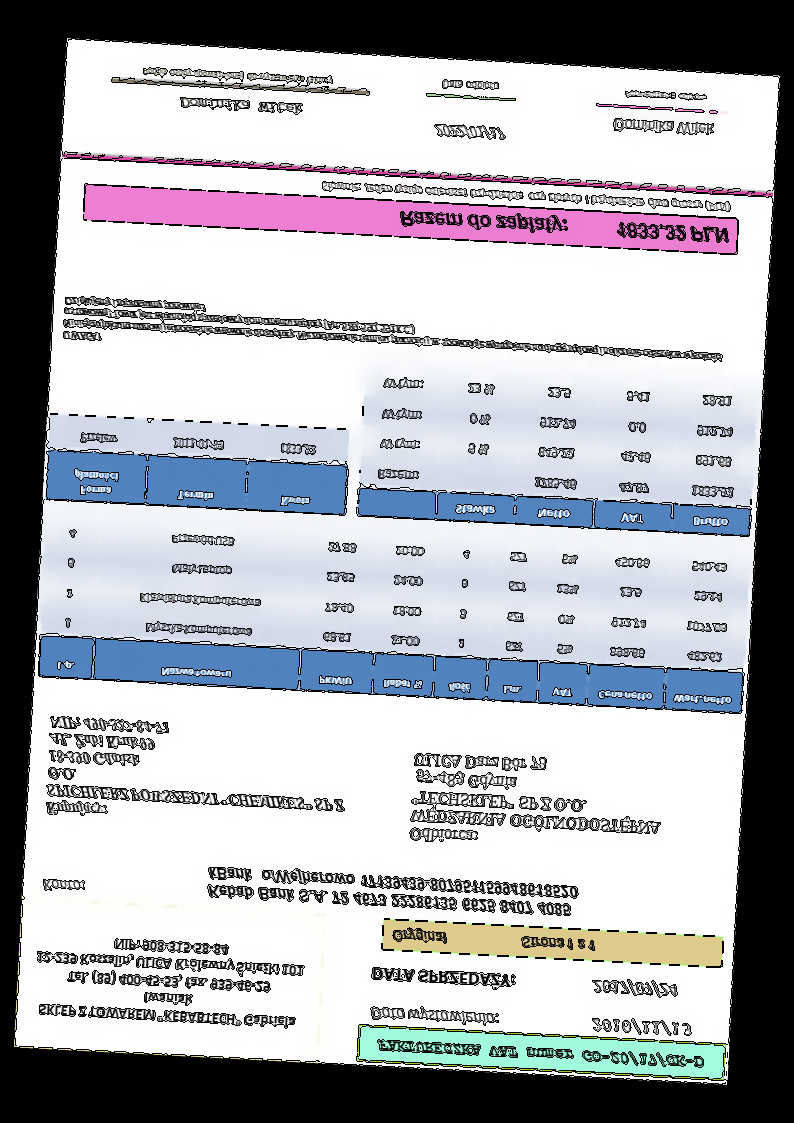Table: (35, 512, 752, 718), (354, 364, 759, 538), (44, 412, 349, 517)
TextBox: (59, 292, 724, 378), (43, 710, 352, 832), (406, 744, 668, 860), (31, 929, 309, 1036), (203, 860, 581, 922), (319, 178, 735, 216), (395, 206, 733, 248), (373, 1037, 711, 1072), (388, 924, 598, 955), (139, 64, 335, 88), (368, 964, 518, 993), (368, 1003, 501, 1031), (175, 93, 307, 117), (610, 115, 718, 141), (590, 1016, 693, 1041), (590, 975, 678, 1001), (433, 120, 512, 146), (623, 84, 708, 106), (38, 873, 90, 898), (437, 76, 501, 94)
